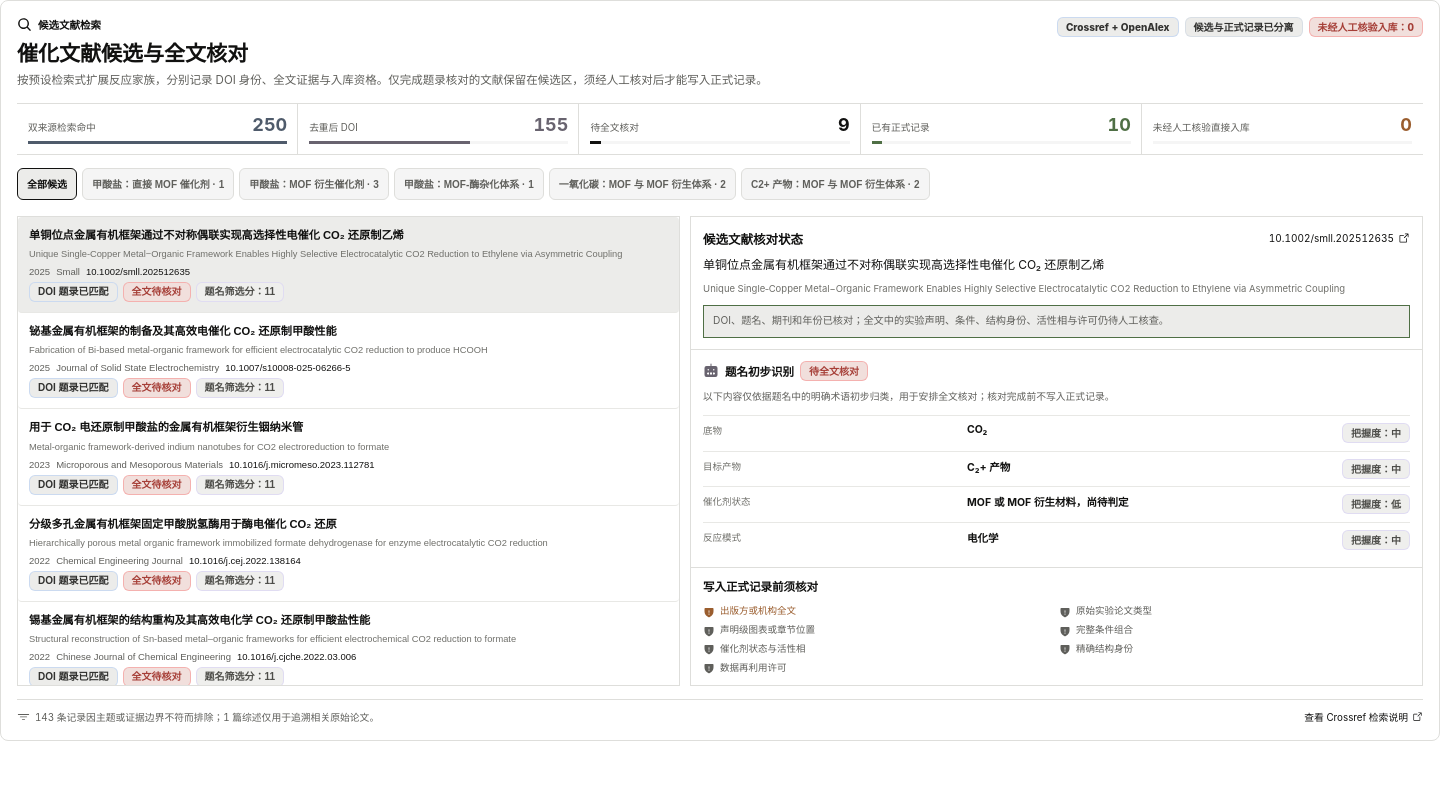
Test: CatalysisDiscoveryWorkbench › filters C2+ candidates and switches the inspector
Click the tab "C2+ 产物：MOF 与 MOF 衍生体系 · 2": (835, 184) [741, 168, 930, 200]
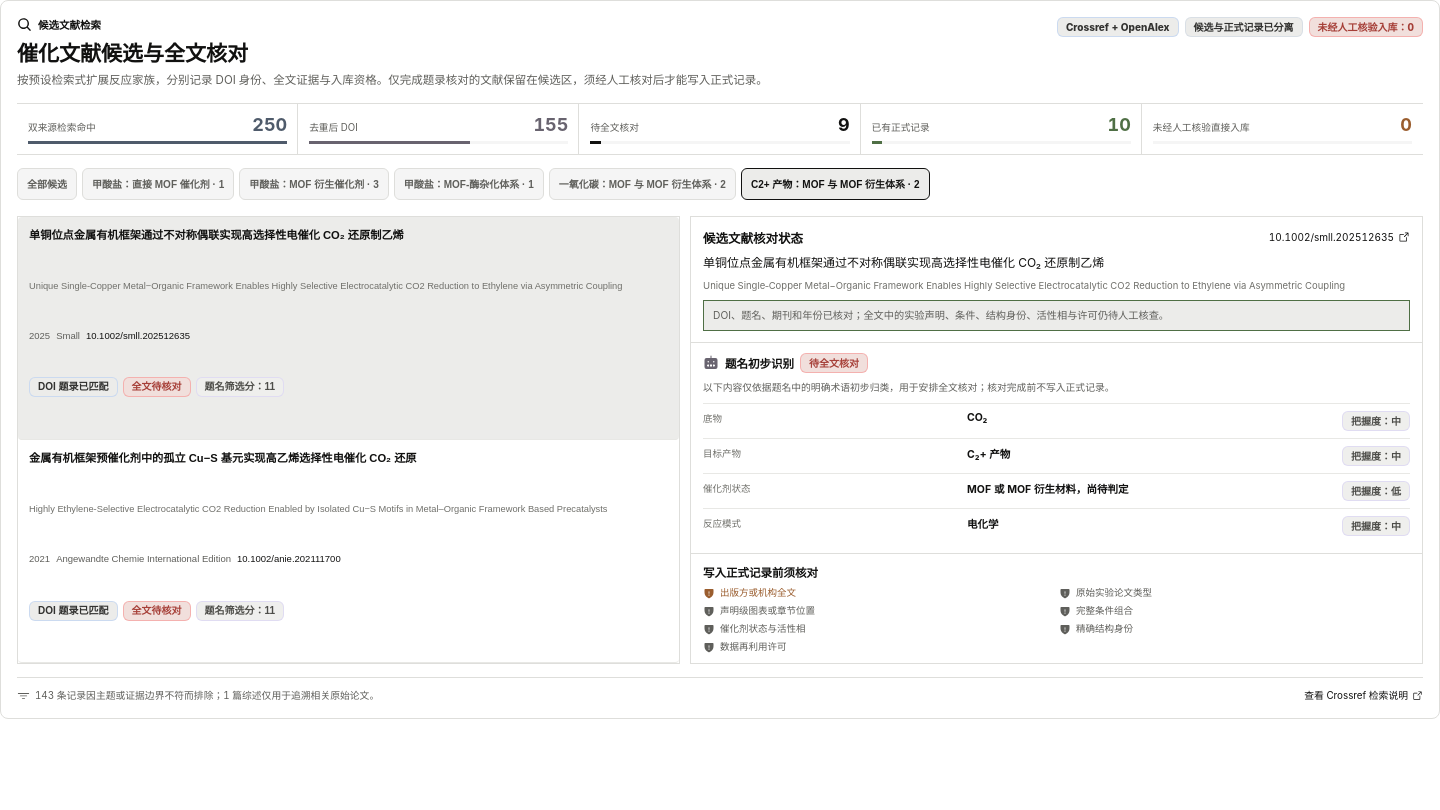
Now the number of buttons is 2, box [18, 217, 679, 440]; [18, 440, 679, 663]
Click the text "Highly Ethylene": (349, 510) [29, 503, 668, 516]
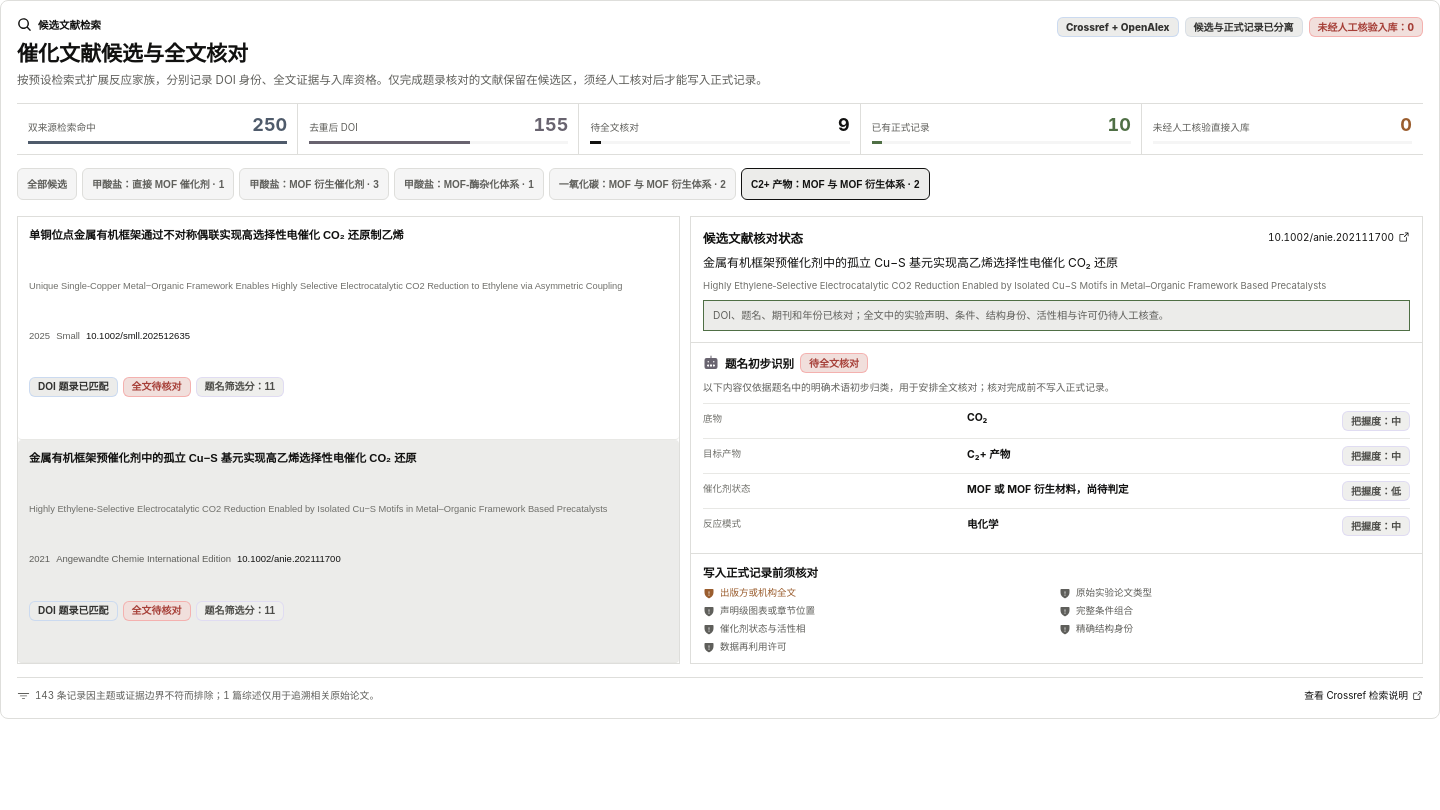
Expected: the element with test id "catalysis-discovery-inspector" shows "全文中的实验声明、条件、结构身份、活性相与许可仍待人工核查", [713, 309, 1169, 321]
Now the element with test id "catalysis-discovery-inspector" shows "10.1002/anie.202111700", box [1268, 231, 1410, 243]
